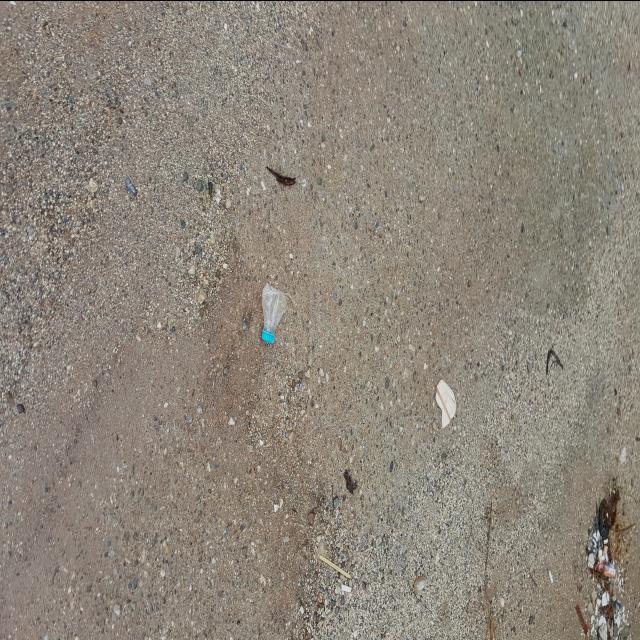Cigarette: (548, 570, 553, 582)
Clear plastic bottle: (262, 283, 287, 343)
Other plastic: (594, 559, 616, 576)
Other plastic bottle: (435, 379, 457, 428)
Plastic bottle cap: (262, 332, 274, 343)
Unlabeled litter: (599, 498, 610, 539)
